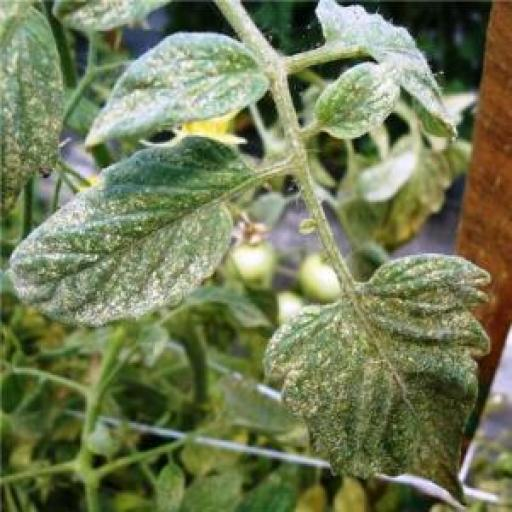disease_tomato: (260, 248, 494, 506), (5, 130, 258, 328), (80, 29, 271, 158), (310, 60, 401, 144)
